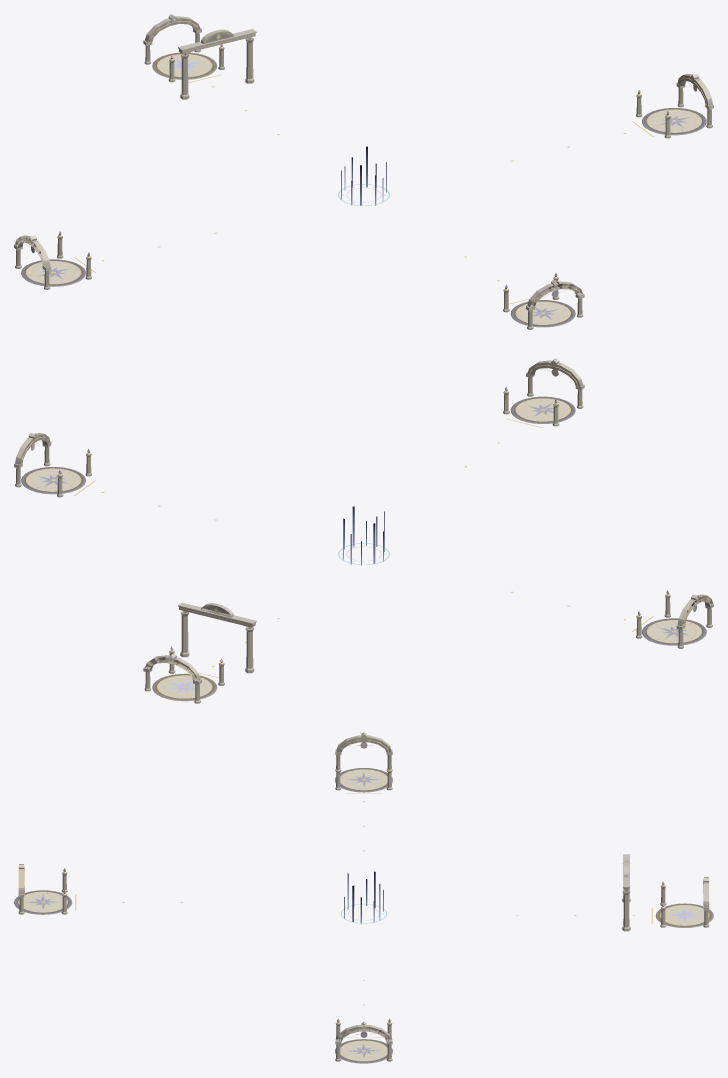
Rendered from portals_lite.glb.
3 renders of one model, top to bottom at view 1: azimuth 30°, elevation 25°; view 2: azimuth 150°, elevation 25°; view 3: azimuth 270°, elevation 25°, orthographic. The views are drawn at different scales.
Visible parts, largest first — view 1: Portal_stone, Portal_paving, Portal_props, Portal_fx; view 2: Portal_stone, Portal_paving, Portal_props, Portal_fx; view 3: Portal_stone, Portal_paving, Portal_props.
Boxes of the visible parts, x1,y1,x2,y2 form: Portal_stone: (14,14,713,329); Portal_paving: (26,54,700,324); Portal_props: (15,20,706,324); Portal_fx: (341,146,386,206); Portal_stone: (14,358,713,703); Portal_paving: (27,398,701,698); Portal_props: (21,362,712,698); Portal_fx: (343,506,384,565); Portal_stone: (14,732,713,1063); Portal_paving: (19,769,708,1060); Portal_props: (18,736,709,1061).
Size of the model in its own units: 96 by 7.95 by 96.
